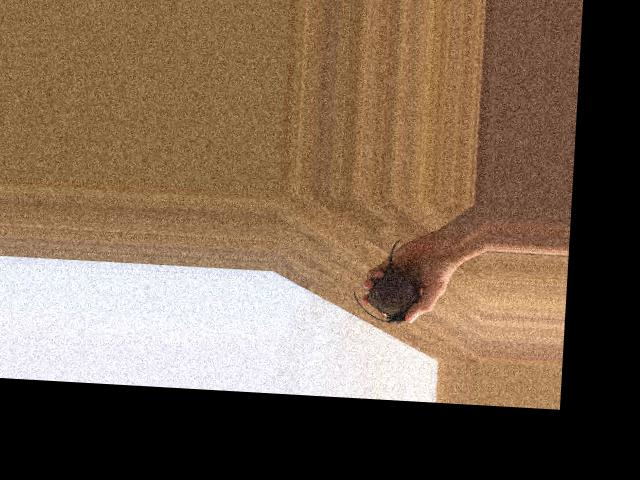beet: (350, 237, 422, 325)
